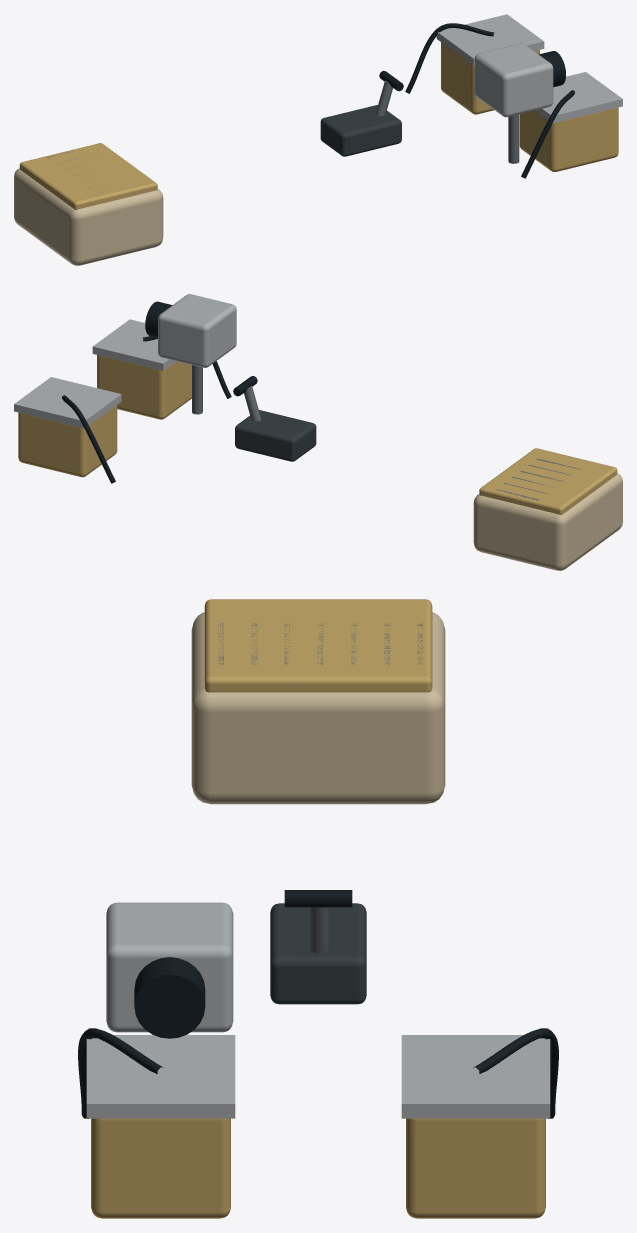
The model's file is lunar-solar.glb.
3 views of the same model, one above another, from view 1: azimuth 30°, elevation 25°; view 2: azimuth 150°, elevation 25°; view 3: azimuth 270°, elevation 25° (orthographic). The views are drawn at different scales.
Size of the model in its own units: 2.76 by 0.555 by 1.1.
